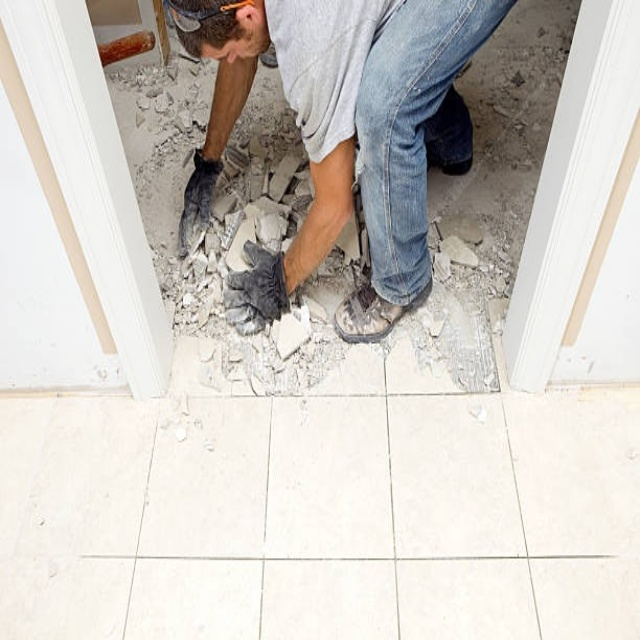Guantes: (223, 241, 290, 334), (178, 150, 224, 258)
